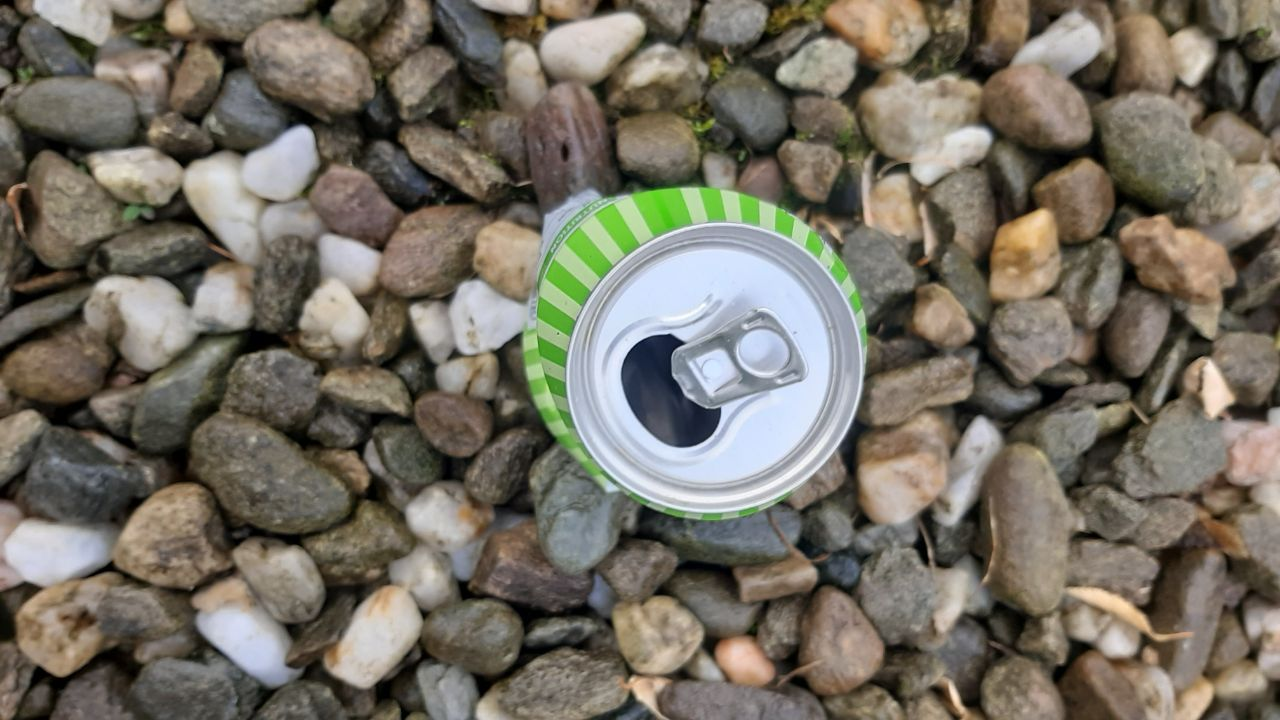Can: (521, 186, 868, 522)
